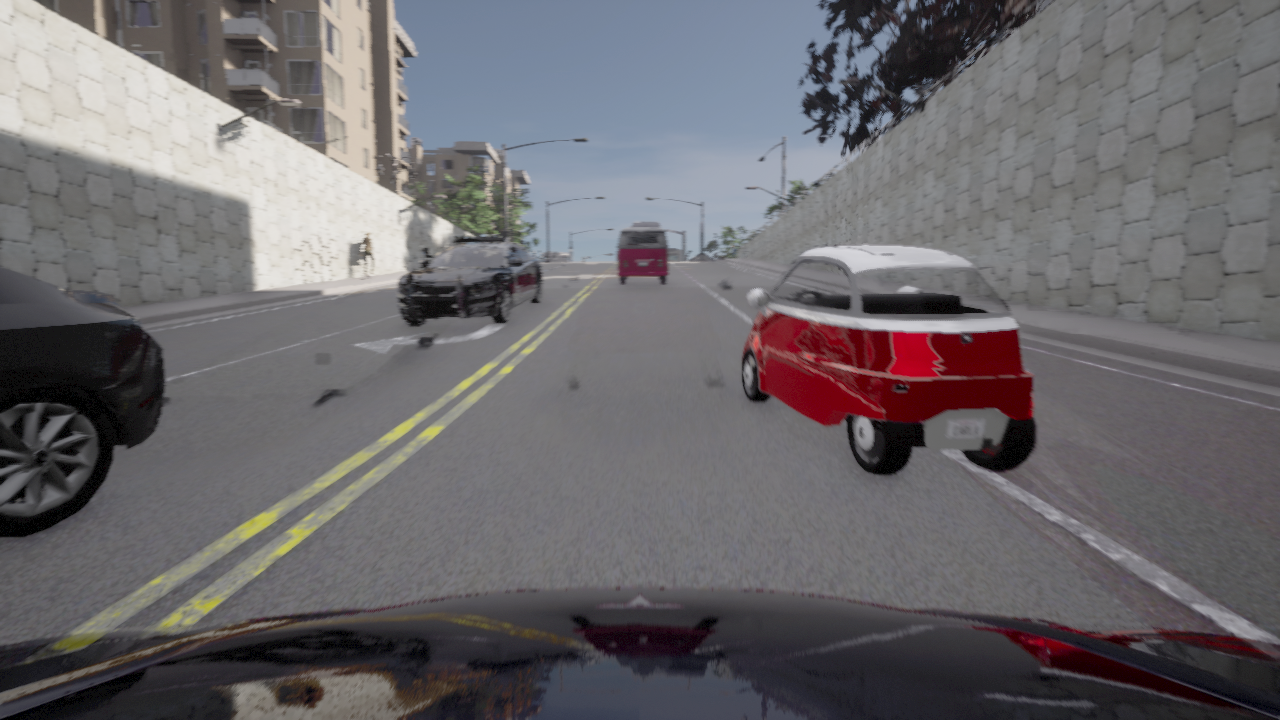cyclist: (0, 588, 1279, 719), (741, 245, 1036, 475), (397, 236, 542, 324), (617, 228, 668, 283), (631, 221, 659, 227)
pedestrian: (360, 231, 374, 276), (732, 243, 736, 257)
